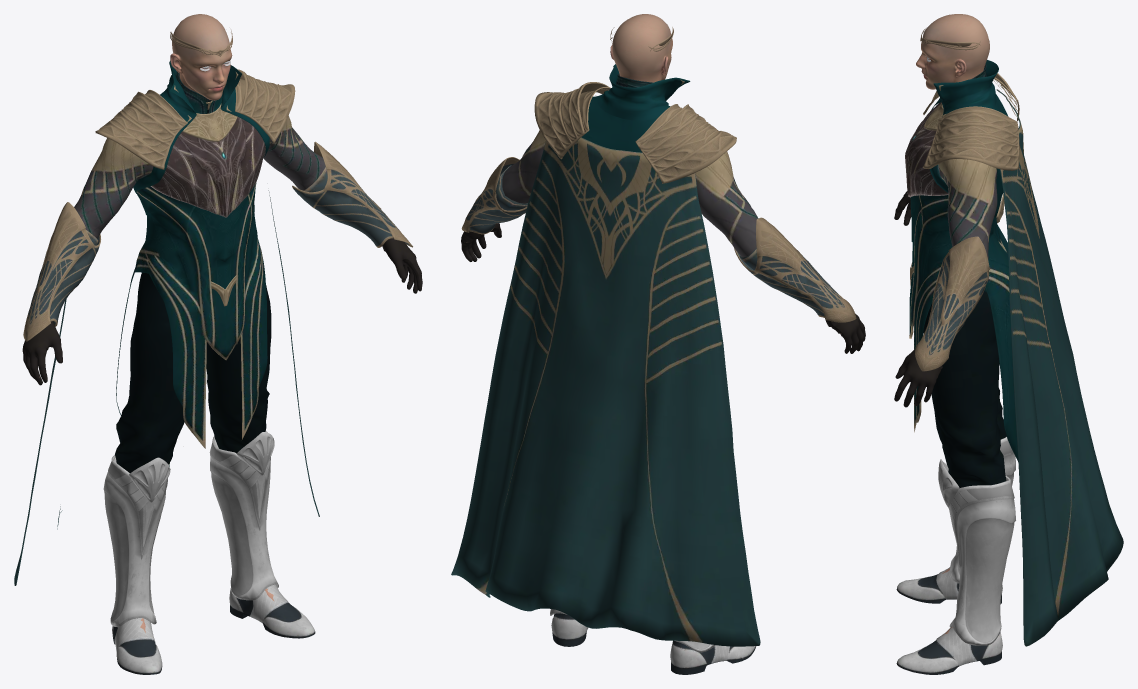
The picture shows the model from 3 angles, left to right: view 1: azimuth 30°, elevation 25°; view 2: azimuth 150°, elevation 25°; view 3: azimuth 270°, elevation 25°; orthographic projection. The views are drawn at different scales.
Visible parts, largest first — view 1: GM_0054_T03_Body, GM_0054_T03_Boots, GM_0054_T03_Pants, GM_0054_T03_Glove, GM_0054_T03_Shoulder, GM_BaseHead, GM_0054_T03_Cape; view 2: GM_0054_T03_Cape, GM_0054_T03_Body, GM_0054_T03_Glove, GM_0054_T03_Shoulder, GM_BaseHead, GM_0054_T03_Boots; view 3: GM_0054_T03_Cape, GM_0054_T03_Body, GM_0054_T03_Boots, GM_0054_T03_Pants, GM_0054_T03_Glove, GM_0054_T03_Shoulder, GM_BaseHead, GM_0054_T03_Helmet.
Boxes of the visible parts, x1,y1,x2,y2 form: GM_0054_T03_Body: (39,61,325,466); GM_0054_T03_Boots: (103,430,315,674); GM_0054_T03_Pants: (115,272,274,632); GM_0054_T03_Glove: (22,141,422,385); GM_0054_T03_Shoulder: (95,69,295,169); GM_BaseHead: (170,14,232,100); GM_0054_T03_Cape: (14,190,319,585); GM_0054_T03_Cape: (451,137,760,646); GM_0054_T03_Body: (466,64,841,333); GM_0054_T03_Glove: (461,157,865,353); GM_0054_T03_Shoulder: (534,82,736,183); GM_BaseHead: (610,14,672,82); GM_0054_T03_Boots: (550,609,756,674); GM_0054_T03_Cape: (996,89,1123,646); GM_0054_T03_Body: (905,60,1018,461); GM_0054_T03_Boots: (896,437,1015,674); GM_0054_T03_Pants: (923,291,1006,635); GM_0054_T03_Glove: (894,191,989,407); GM_0054_T03_Shoulder: (923,73,1019,170); GM_BaseHead: (916,14,989,89); GM_0054_T03_Helmet: (920,28,980,50).
Size of the model in its own units: 1.24 by 1.89 by 0.6389.
10 materials, 9 textured.
